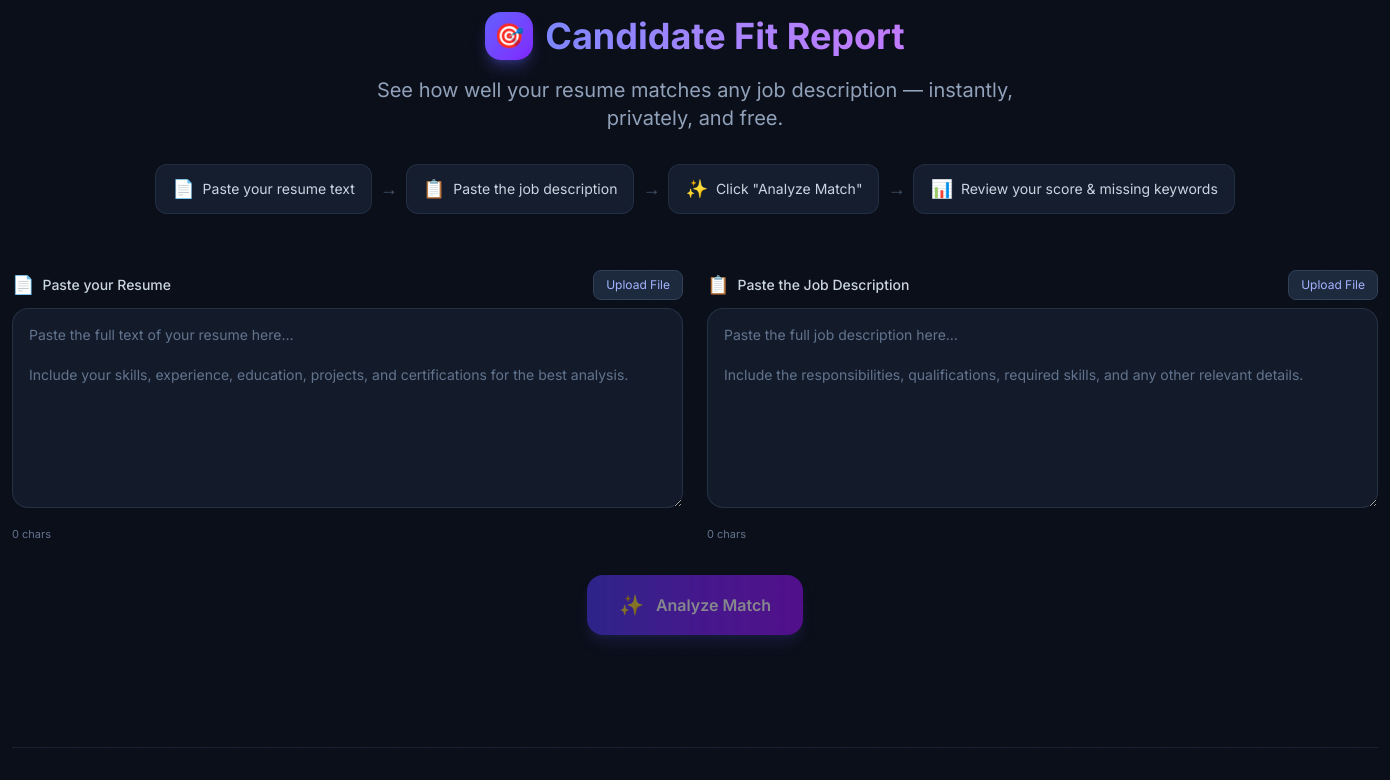
Test case: Home page › enables Analyze Match when both inputs are filled
This screenshot has width=1390, height=780.
Expected: the button "✨ Analyze Match" is disabled, [587,574,803,634]
Replace the text in the text box labelled "Paste your Resume" with "React TypeScript" at (348, 408), box [12,308,683,508]
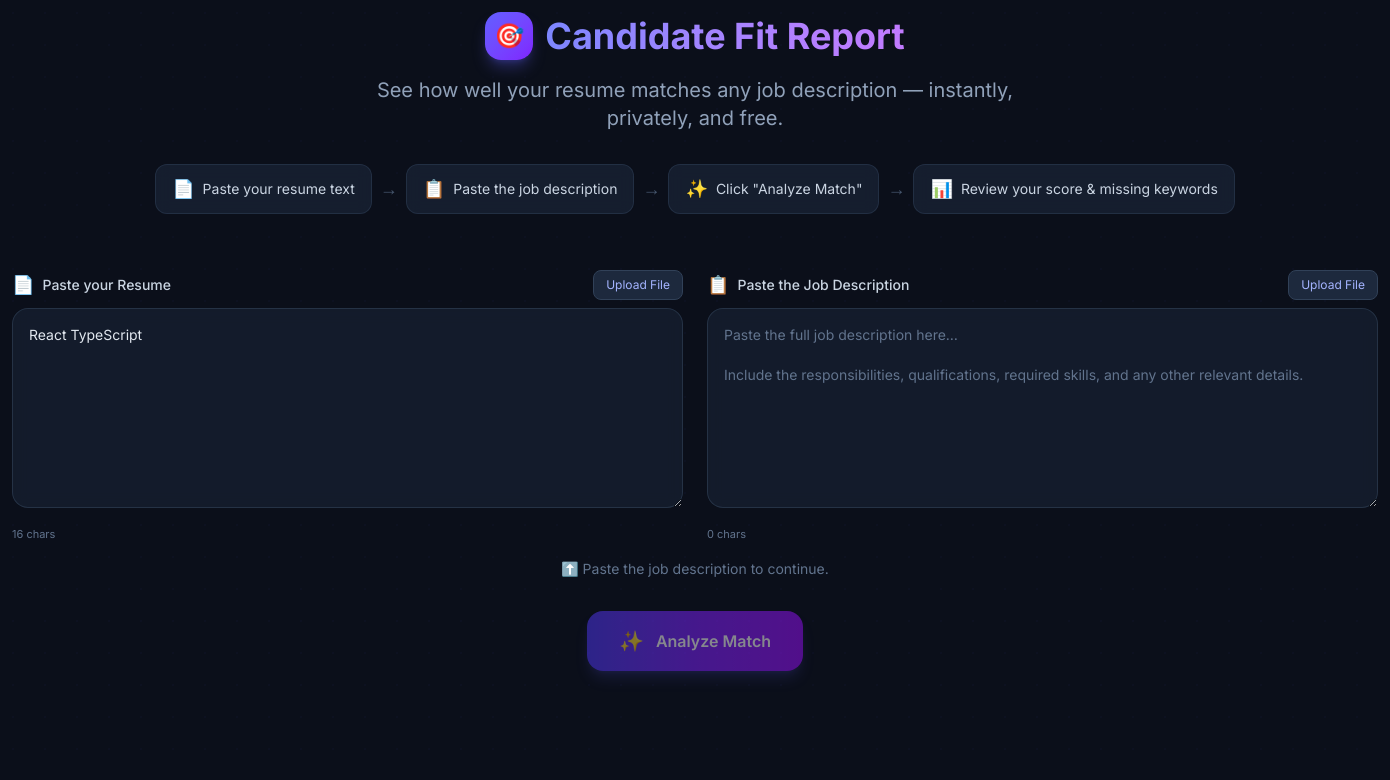
Replace the text in the text box labelled "Paste the Job Description" with "Need React TypeScript" at (1042, 408), box [707,308,1378,508]
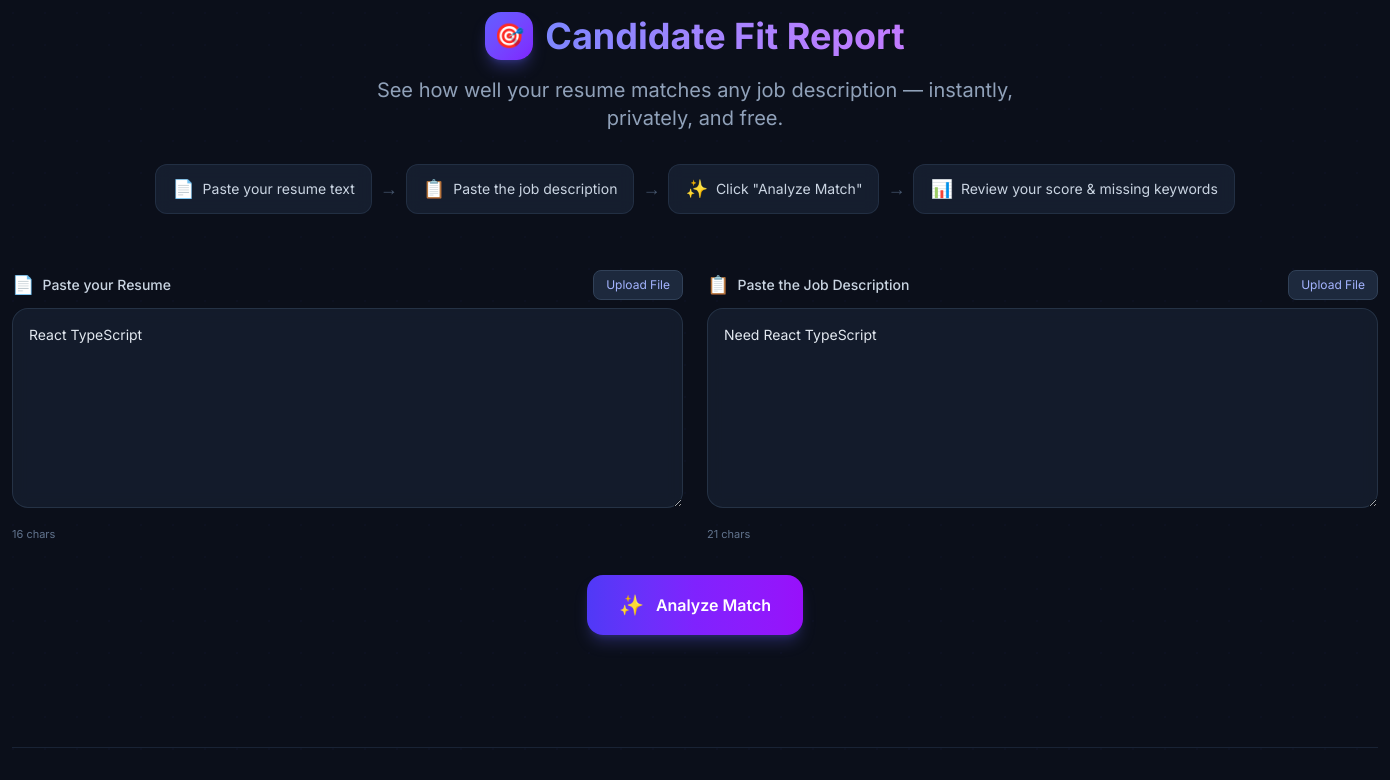
Now the button "✨ Analyze Match" is enabled, box [587,574,803,634]
